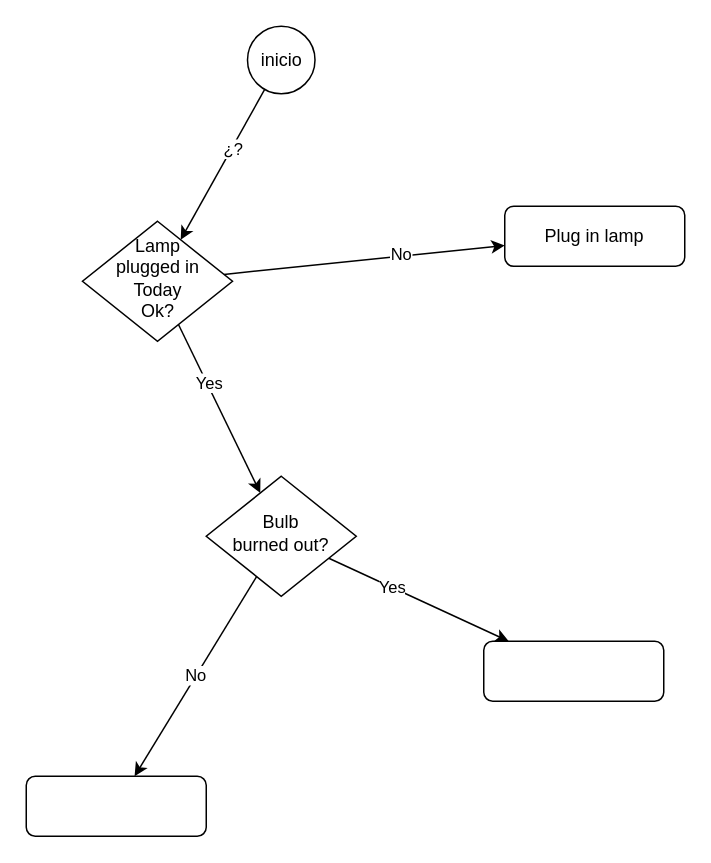
Some shapes in this 711 by 863 pixel diagram are drawn without their labels. The shapes that lost their labels are listed below. From the top down, each one's centre as x and y in pixels, then its label:
the point at 573,670: Replace Bulb
the point at 115,805: Repair Lamp
